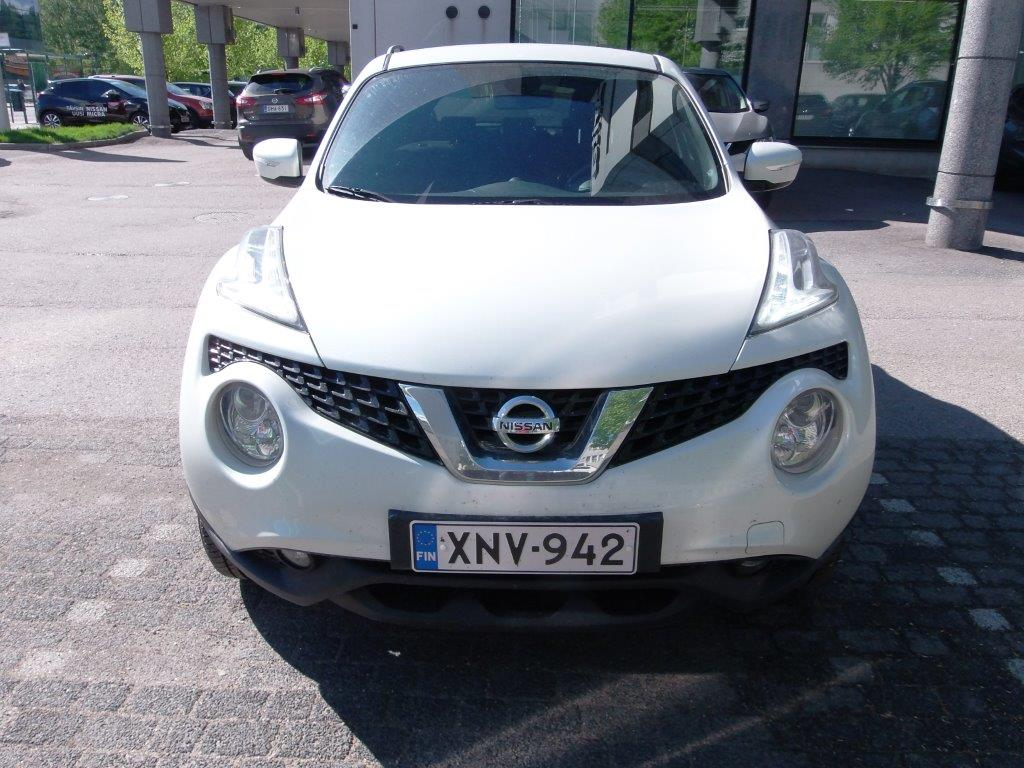license: (403, 516, 637, 571)
